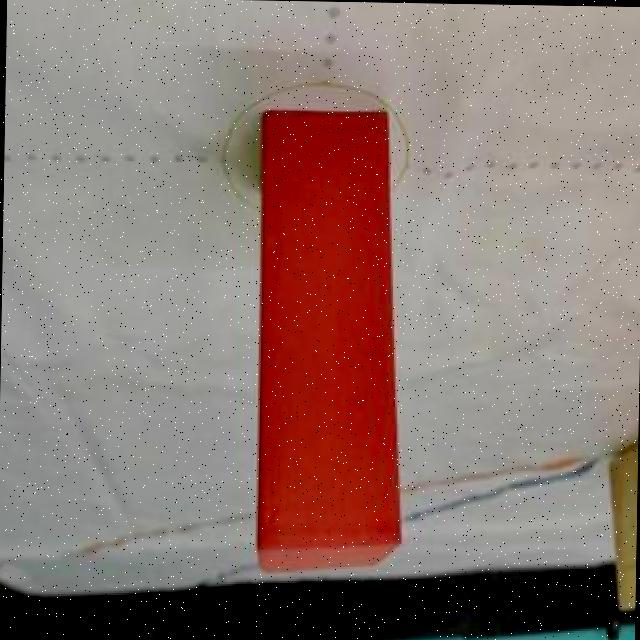redbox: (251, 104, 405, 576)
